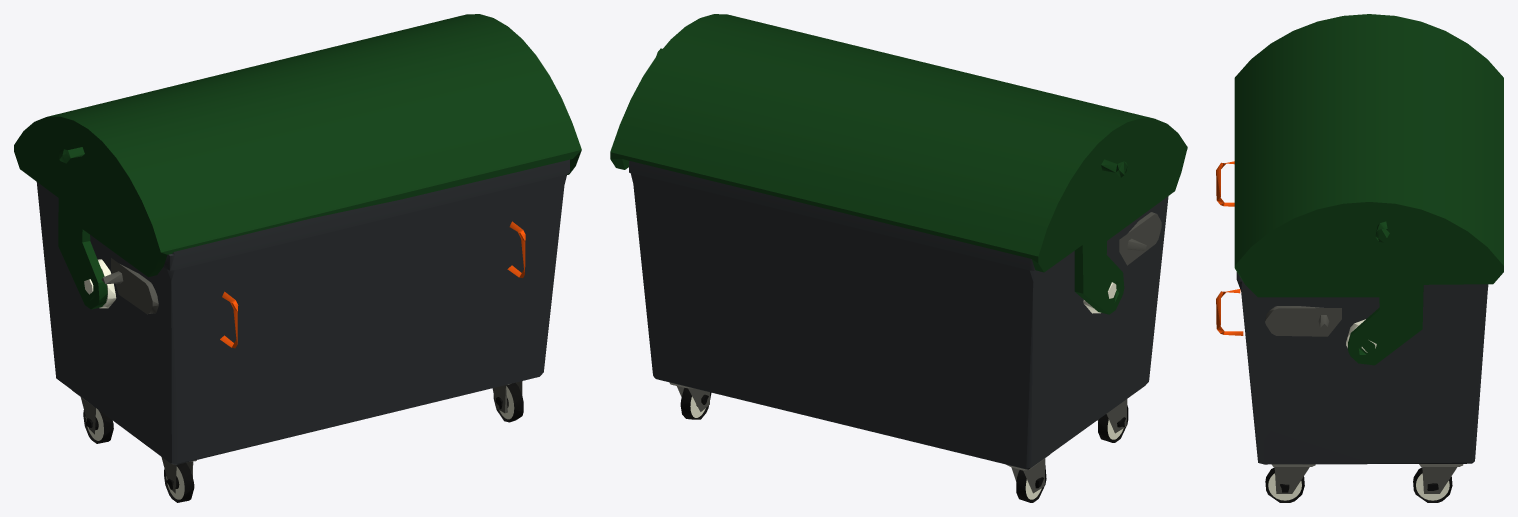
Rendered from bin_green.fbx.
The picture shows the model from 3 angles, left to right: view 1: azimuth 30°, elevation 25°; view 2: azimuth 150°, elevation 25°; view 3: azimuth 270°, elevation 25°; orthographic projection. The views are drawn at different scales.
Parts seen in each view (by area): view 1: bin_2; view 2: bin_2; view 3: bin_2.
Boxes of the visible parts, x1=… form: bin_2: x1=14, y1=14, x2=581, y2=502; bin_2: x1=610, y1=14, x2=1187, y2=502; bin_2: x1=1216, y1=14, x2=1503, y2=502.
Size of the model in its own units: 188 by 136 by 111.
